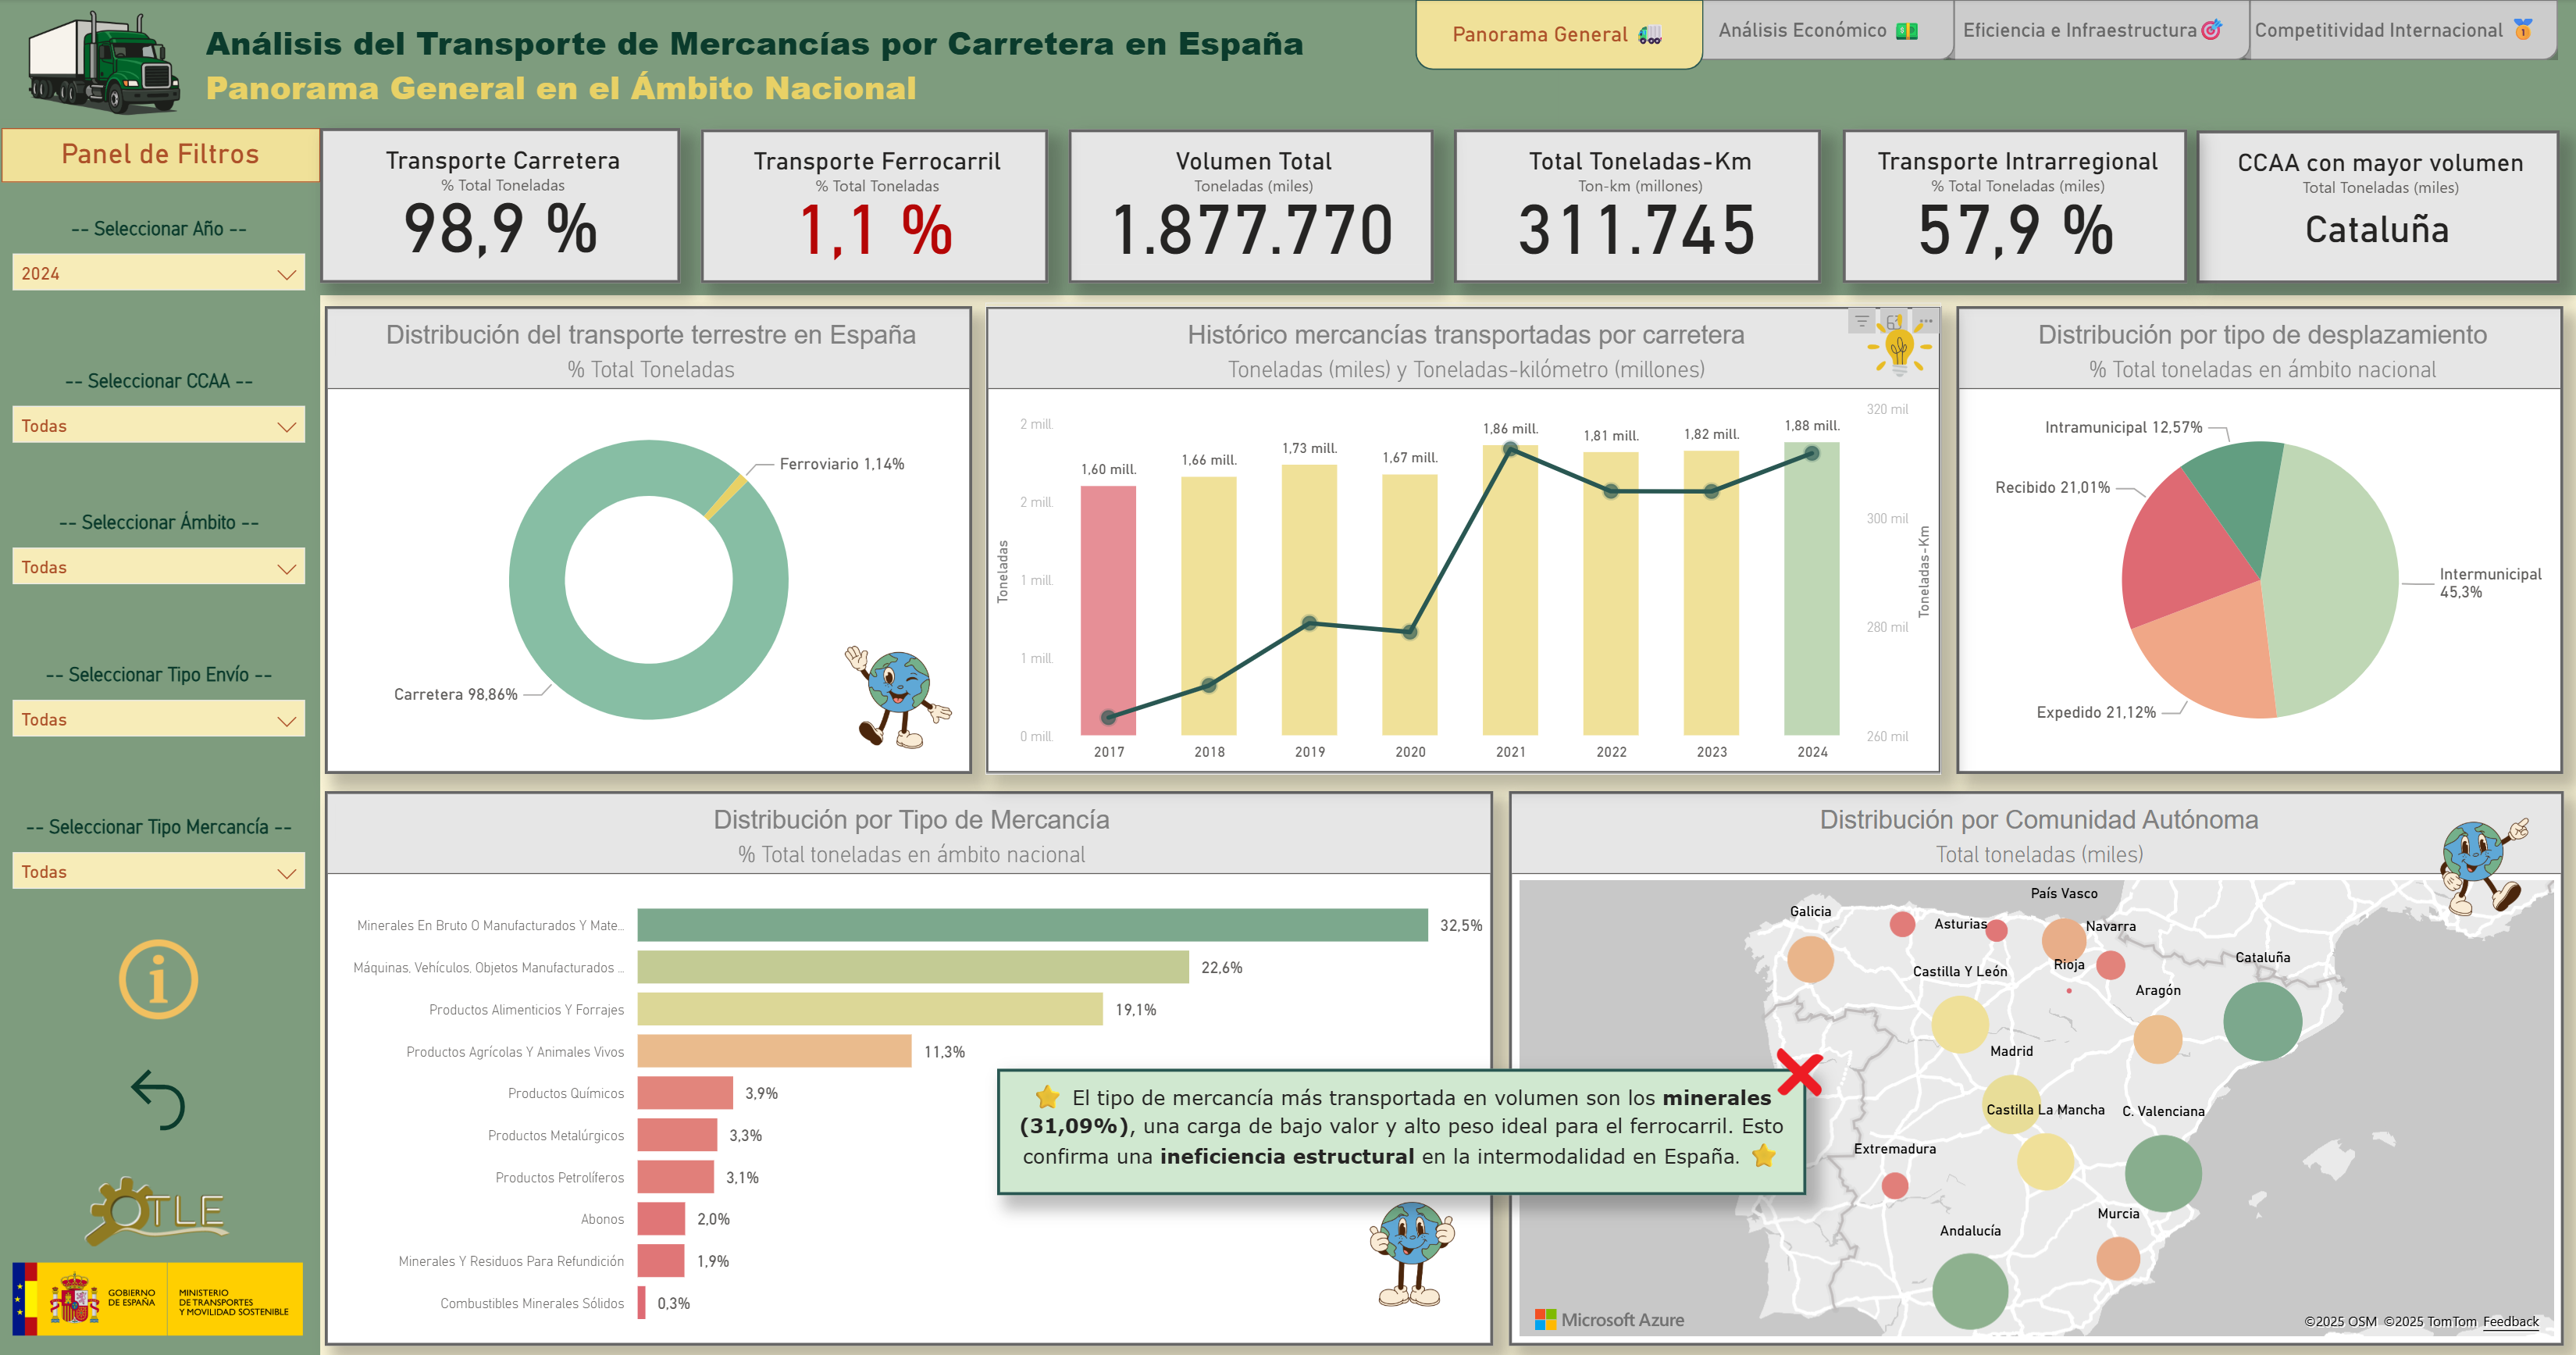

The page's visual inventory and layout, read from the dashboard file:
{"tool":"powerbi","page":{"name":"Panorama General","canvas":[1747,920],"ordinal":1},"visuals":[{"type":"group","id":"g1","title":"Panel diseño","box":[0,0,1799.4,919.7],"z":0},{"type":"shape","box":[0,0,1799.4,200.2],"z":0,"group":"g1"},{"type":"lineStackedColumnComboChart","title":"Histórico mercancías transportadas por carretera","fields":{"Category":["Año Dim.Año"],"Y2":["Medidas.Total Ton-km (miles millones)"],"Y":["Medidas.Total Toneladas (miles de millones)"]},"box":[667.9,207.3,645.9,315.9],"z":0,"group":"g2"},{"type":"shape","box":[0,81.2,218.5,838.5],"z":1000,"group":"g1"},{"type":"cardVisual","title":"Total Toneladas-Km","fields":{"Data":["Medidas.Total Tone-km (millones)"]},"box":[984.6,87.9,248.2,104.2],"z":1000},{"type":"image","box":[1257.8,204.6,55.1,57.6],"z":1000,"group":"g2"},{"type":"textbox","box":[135.8,8.5,918.5,77.3],"z":2000,"group":"g1"},{"type":"cardVisual","title":"Volumen Total","fields":{"Data":["Medidas.Total Toneladas(miles)"]},"box":[724.1,88.1,246.4,104],"z":2000},{"type":"slicer","title":"-- Seleccionar Año --","fields":{"Values":["Año Dim.Año"]},"box":[0.9,146.8,217.6,63.9],"z":3000},{"type":"slicer","title":"-- Seleccionar CCAA --","fields":{"Values":["CCAA Dim.CCAA"]},"box":[0.8,250,217.6,56.3],"z":4000},{"type":"slicer","title":"-- Seleccionar Ámbito --","fields":{"Values":["Tipo Envio Dim.Ámbito"]},"box":[0.9,345.5,217.6,63.9],"z":5000},{"type":"slicer","title":"-- Seleccionar Tipo Envío --","fields":{"Values":["Tipo Envio Dim.Tipo Envío"]},"box":[0.9,448.7,217.6,63.9],"z":6000},{"type":"textbox","box":[3.2,87,215.2,36.4],"z":7000},{"type":"donutChart","title":"Distribución del transporte terrestre en España","fields":{"Y":["Medidas.Total Toneladas Modo (miles de millones)"],"Series":["C0519 Transporte Modo - Ambito.Modo Transporte"]},"box":[221.8,207.2,437.2,315.7],"z":8000},{"type":"pieChart","title":"Distribución por tipo de desplazamiento","fields":{"Category":["Dim Tipo Envio.Tipo Envío"],"Y":["Medidas.Total Toneladas (miles de millones)"]},"box":[1323.9,207.5,410.2,315.9],"z":9000},{"type":"clusteredBarChart","title":"Distribución por Tipo de Mercancía","fields":{"Category":["C0280 Tráfico Total.Tipo Mercancía"],"Y":["Medidas General.Total Toneladas (miles)"]},"box":[221.6,534.7,789.3,374.4],"z":10000},{"type":"cardVisual","title":"Transporte Carretera","fields":{"Data":["Medidas.% Ton Carretera","Medidas.% Ton Carretera"]},"box":[218.1,87.2,243.1,104.9],"z":11000},{"type":"cardVisual","title":"Transporte Ferrocarril","fields":{"Data":["Medidas.% Ton Tren"]},"box":[475.3,87.9,234.6,104.2],"z":12000},{"type":"cardVisual","title":"CCAA con mayor volumen","fields":{"Data":["Min(Dim CCAA.CCAA)"]},"box":[1486.3,88.2,245.3,103.6],"z":13000},{"type":"cardVisual","title":"Transporte Intrarregional","fields":{"Data":["Medidas General.% Ton Intrarregional"]},"box":[1247,87.9,232.8,104.2],"z":14000},{"type":"slicer","title":"-- Seleccionar Tipo Mercancía --","fields":{"Values":["C0280 Tráfico Total.Tipo Mercancía"]},"box":[0.9,551.8,217.6,63],"z":16000},{"type":"azureMap","title":"Distribución por Comunidad Autónoma","fields":{"Size":["Medidas.Total Toneladas (miles de millones)"],"Category":["Dim CCAA.CCAA"]},"box":[1021.2,534.7,712.9,374.4],"z":17000},{"type":"shape","box":[1512.6,0,218.2,41.2],"z":18000},{"type":"image","box":[4,846.7,208.9,62.5],"z":19000},{"type":"image","box":[3.6,789.6,208.6,57.6],"z":20000},{"type":"shape","box":[1313.1,0,209.8,41.2],"z":21000},{"type":"shape","box":[1140.7,0,181.7,41.2],"z":22000},{"type":"actionButton","box":[82.4,715.5,53.4,56.2],"z":23000},{"type":"shape","box":[958.1,0,194.8,47.8],"z":24000},{"type":"image","box":[4,2.4,136.9,80.7],"z":25000},{"type":"image","box":[76.8,629.4,64.6,66.5],"z":26000},{"type":"image","box":[567.7,430.9,83,81.1],"z":27000},{"type":"image","box":[921.9,804.7,68.8,83.9],"z":28000},{"type":"image","box":[1645.2,545.5,71,83.6],"z":29000},{"type":"group","id":"g2","title":"Viz 1","box":[667.9,204.6,645.9,318.6],"z":30000}]}

Visuals, with their boxes in screenshot pixels (x1, y1, x2, y2), scaled from the page's 1747x920 canvas onto the 2576x1355 screenshot:
"Panel diseño" group: bbox(0, 0, 2575, 1354)
shape: bbox(0, 0, 2575, 295)
"Histórico mercancías transportadas por carretera" lineStackedColumnComboChart: bbox(985, 305, 1937, 771)
shape: bbox(0, 119, 322, 1354)
"Total Toneladas-Km" cardVisual: bbox(1452, 130, 1818, 283)
image: bbox(1855, 301, 1936, 386)
textbox: bbox(200, 12, 1555, 127)
"Volumen Total" cardVisual: bbox(1067, 130, 1431, 283)
"-- Seleccionar Año --" slicer: bbox(2, 216, 322, 310)
"-- Seleccionar CCAA --" slicer: bbox(2, 368, 322, 451)
"-- Seleccionar Ámbito --" slicer: bbox(2, 509, 322, 603)
"-- Seleccionar Tipo Envío --" slicer: bbox(2, 661, 322, 755)
textbox: bbox(5, 128, 322, 182)
"Distribución del transporte terrestre en España" donutChart: bbox(327, 305, 971, 770)
"Distribución por tipo de desplazamiento" pieChart: bbox(1952, 305, 2557, 771)
"Distribución por Tipo de Mercancía" clusteredBarChart: bbox(326, 787, 1491, 1339)
"Transporte Carretera" cardVisual: bbox(322, 128, 680, 283)
"Transporte Ferrocarril" cardVisual: bbox(701, 130, 1047, 283)
"CCAA con mayor volumen" cardVisual: bbox(2192, 130, 2553, 283)
"Transporte Intrarregional" cardVisual: bbox(1839, 130, 2182, 283)
"-- Seleccionar Tipo Mercancía --" slicer: bbox(2, 813, 322, 905)
"Distribución por Comunidad Autónoma" azureMap: bbox(1505, 787, 2557, 1339)
shape: bbox(2230, 0, 2552, 61)
image: bbox(6, 1247, 314, 1339)
image: bbox(5, 1163, 313, 1248)
shape: bbox(1936, 0, 2246, 61)
shape: bbox(1682, 0, 1950, 61)
actionButton: bbox(122, 1054, 200, 1136)
shape: bbox(1413, 0, 1700, 70)
image: bbox(6, 4, 208, 123)
image: bbox(113, 927, 208, 1025)
image: bbox(837, 635, 960, 754)
image: bbox(1359, 1186, 1461, 1309)
image: bbox(2426, 804, 2531, 926)
"Viz 1" group: bbox(985, 301, 1937, 771)
